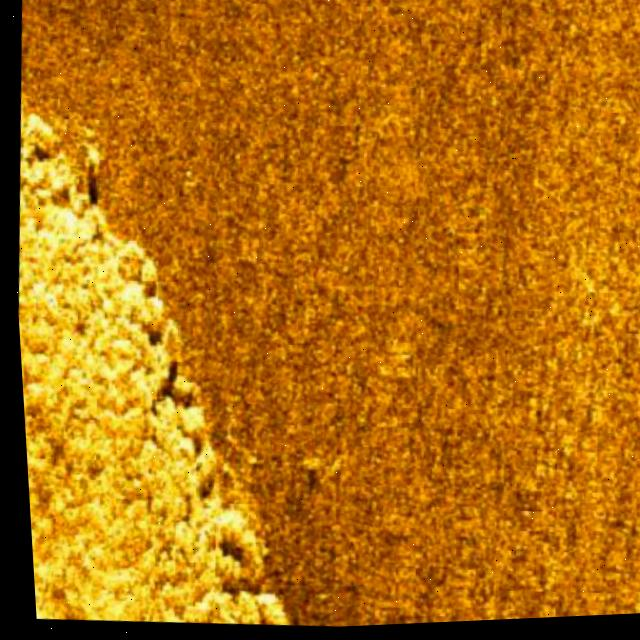bedrock group: (5, 102, 321, 636)
